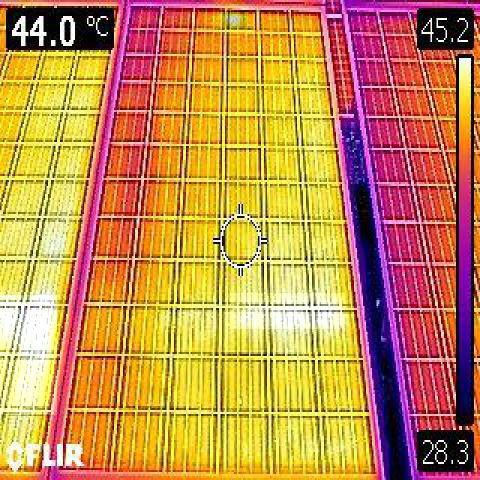fault: (0, 295, 57, 415), (230, 293, 345, 329), (225, 11, 247, 29)
